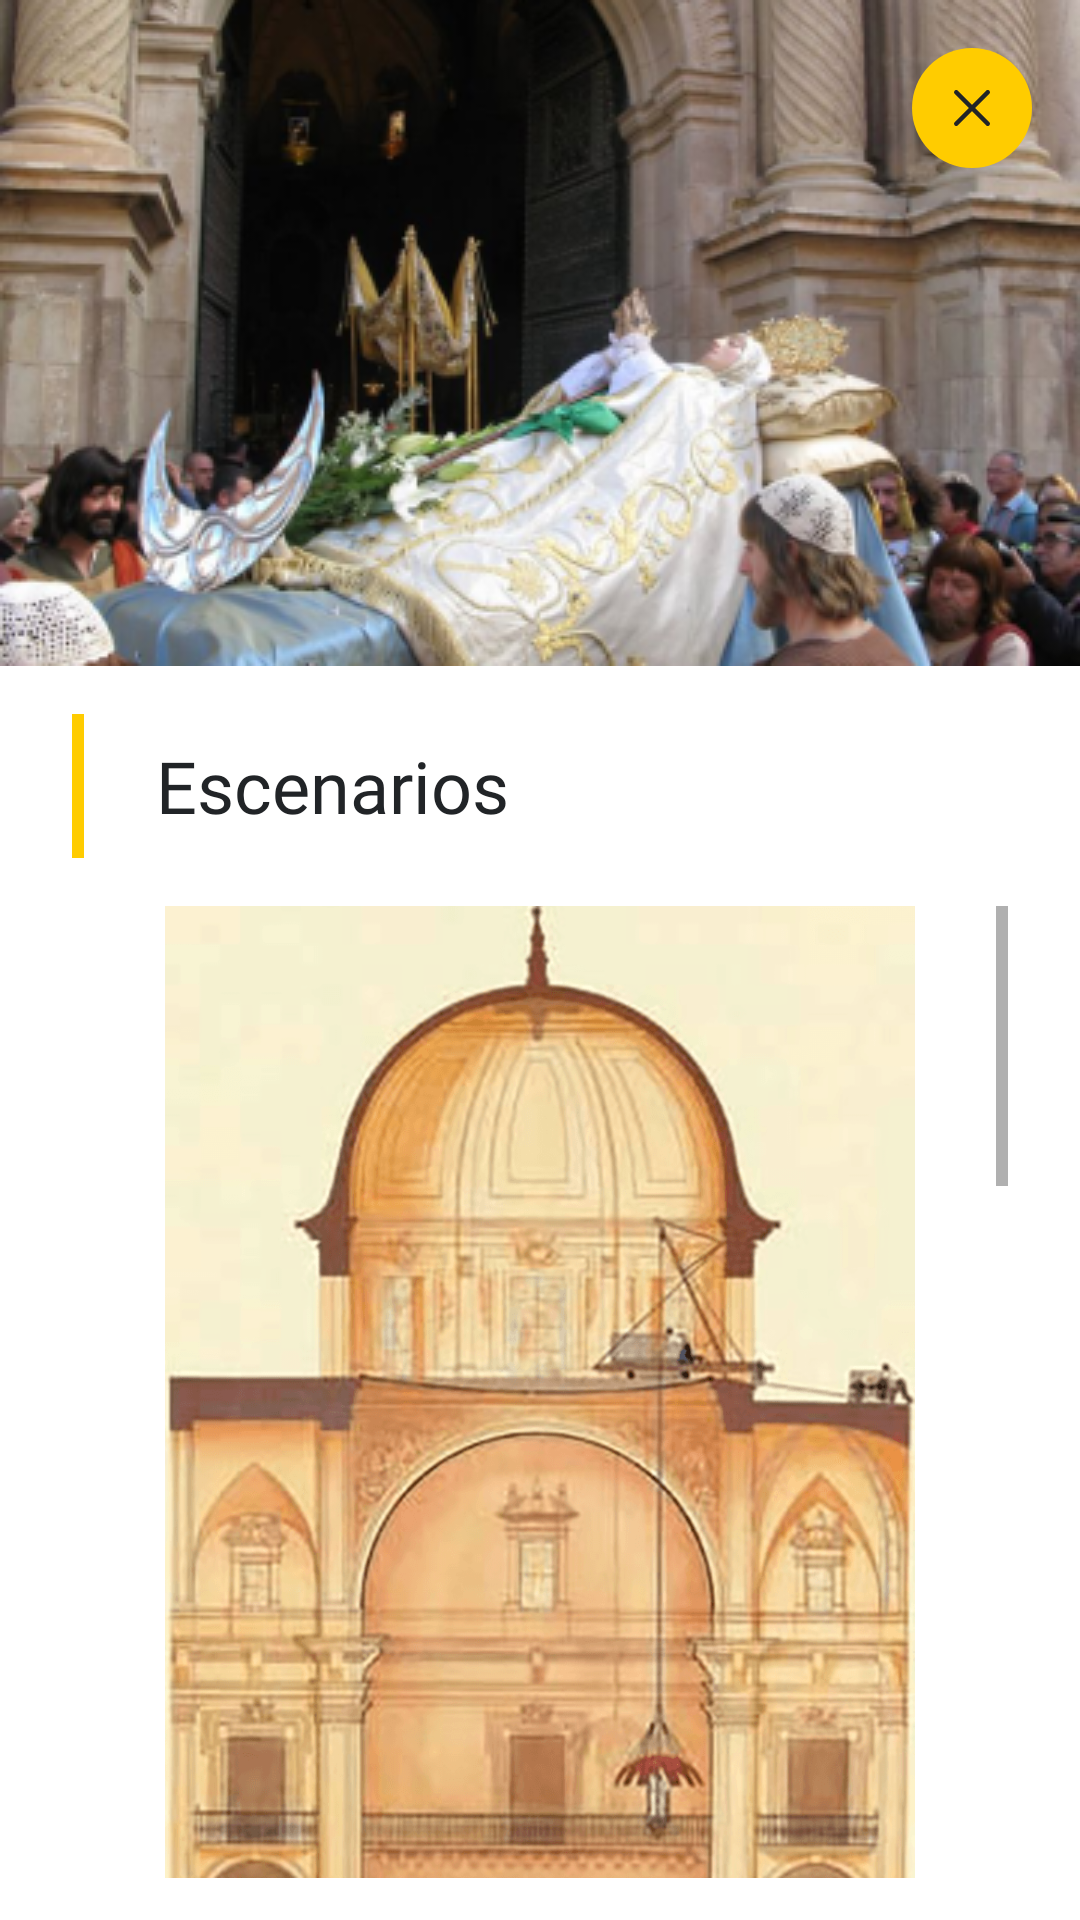

Icon click points for this 1080w x 1920h phone screenshot, format point (x, y):
iconoir cancel: point (972, 108)
